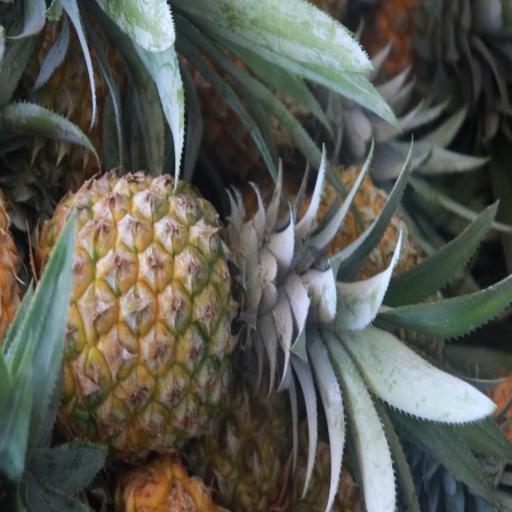Pineapple - v8 v1: (38, 175, 246, 454)
